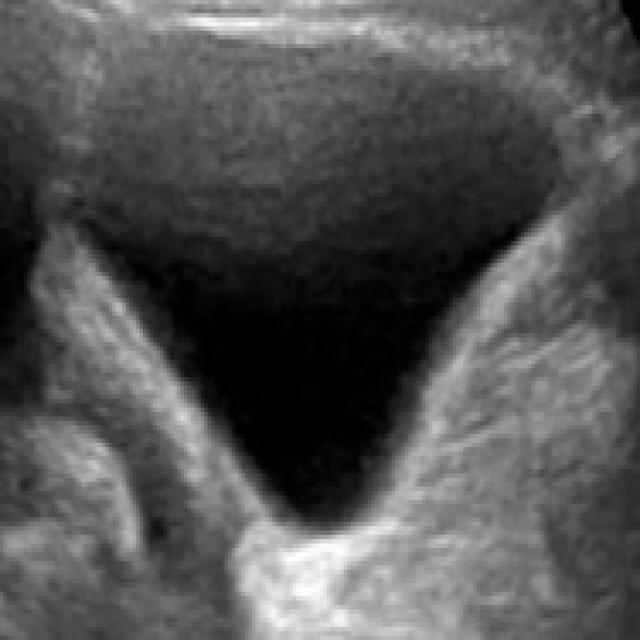bladder: (43, 17, 592, 624)
